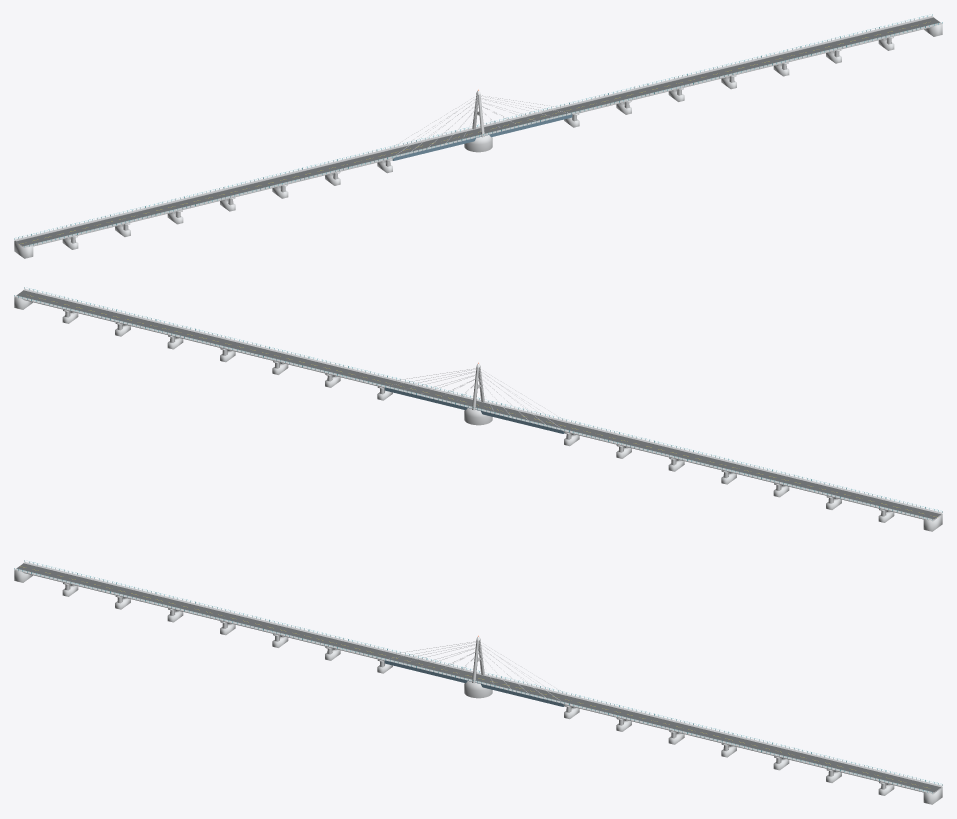
The model's file is cau-song-han.glb.
The picture shows the model from 3 angles, top to bottom: view 1: azimuth 30°, elevation 25°; view 2: azimuth 150°, elevation 25°; view 3: azimuth 330°, elevation 25°; orthographic projection.
Visible parts, largest first — view 1: cau-song-han_road-deck, cau-song-han_sidewalks, cau-song-han_approach-piers, cau-song-han_railings, cau-song-han_approach-girders, cau-song-han_cables, cau-song-han_swing-truss; view 2: cau-song-han_road-deck, cau-song-han_sidewalks, cau-song-han_approach-piers, cau-song-han_approach-girders, cau-song-han_railings, cau-song-han_cables, cau-song-han_swing-truss; view 3: cau-song-han_road-deck, cau-song-han_sidewalks, cau-song-han_approach-piers, cau-song-han_approach-girders, cau-song-han_railings, cau-song-han_cables, cau-song-han_swing-truss.
Part boxes in pixels (box(x1,y1,x2,y2)): cau-song-han_road-deck: box(16, 17, 940, 246); cau-song-han_sidewalks: box(14, 16, 942, 247); cau-song-han_approach-piers: box(14, 24, 942, 258); cau-song-han_railings: box(14, 14, 942, 247); cau-song-han_approach-girders: box(15, 26, 933, 246); cau-song-han_cables: box(388, 95, 568, 154); cau-song-han_swing-truss: box(392, 114, 572, 160); cau-song-han_road-deck: box(16, 290, 940, 519); cau-song-han_sidewalks: box(14, 289, 942, 520); cau-song-han_approach-piers: box(14, 297, 942, 531); cau-song-han_approach-girders: box(23, 299, 942, 521); cau-song-han_railings: box(14, 287, 942, 520); cau-song-han_cables: box(388, 368, 568, 427); cau-song-han_swing-truss: box(384, 387, 564, 433); cau-song-han_road-deck: box(16, 563, 940, 792); cau-song-han_sidewalks: box(14, 562, 942, 793); cau-song-han_approach-piers: box(14, 570, 942, 804); cau-song-han_approach-girders: box(23, 572, 942, 794); cau-song-han_railings: box(14, 560, 942, 793); cau-song-han_cables: box(388, 641, 568, 700); cau-song-han_swing-truss: box(384, 660, 564, 706).
Bounding box in the file's own units: 630 × 37.1 × 17.
